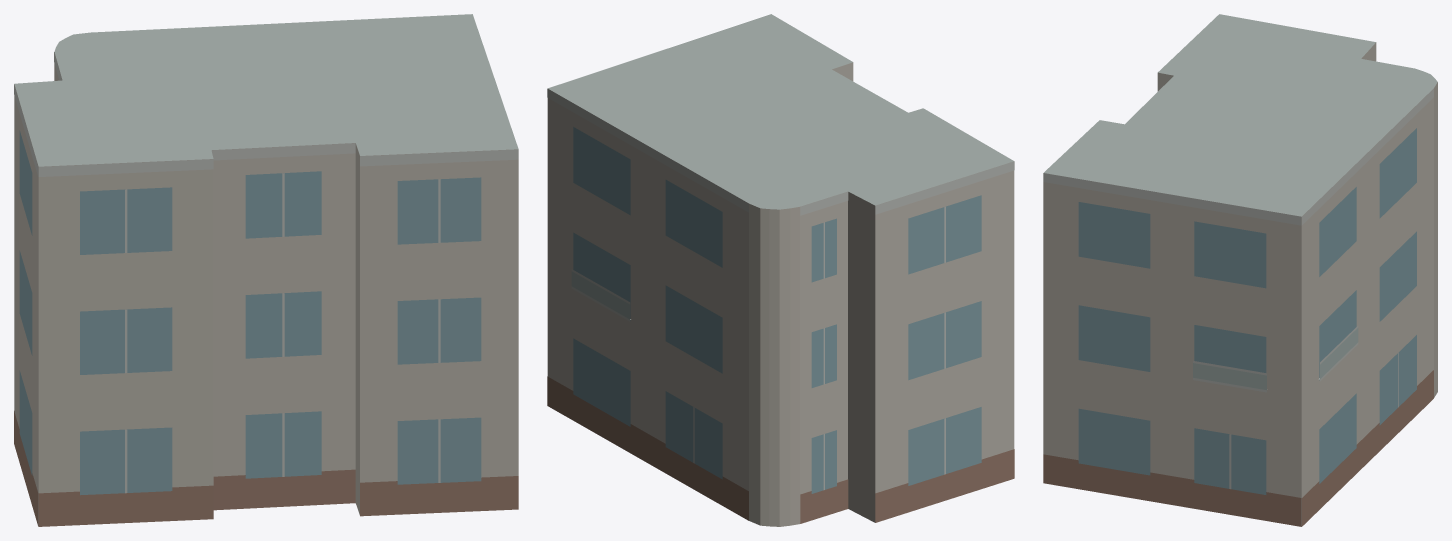
File: survey-upis-32830840.glb
The picture shows the model from 3 angles, left to right: view 1: azimuth 30°, elevation 25°; view 2: azimuth 150°, elevation 25°; view 3: azimuth 270°, elevation 25°; orthographic projection. The views are drawn at different scales.
Visible parts, largest first — view 1: survey-upis-32830840.tmp; view 2: survey-upis-32830840.tmp; view 3: survey-upis-32830840.tmp.
Boxes of the visible parts, left/top/right/bottom form: survey-upis-32830840.tmp: left=14, top=14, right=518, bottom=526; survey-upis-32830840.tmp: left=547, top=14, right=1014, bottom=526; survey-upis-32830840.tmp: left=1043, top=14, right=1437, bottom=526.
Size of the model in its own units: 11.78 by 8.4 by 9.69.
